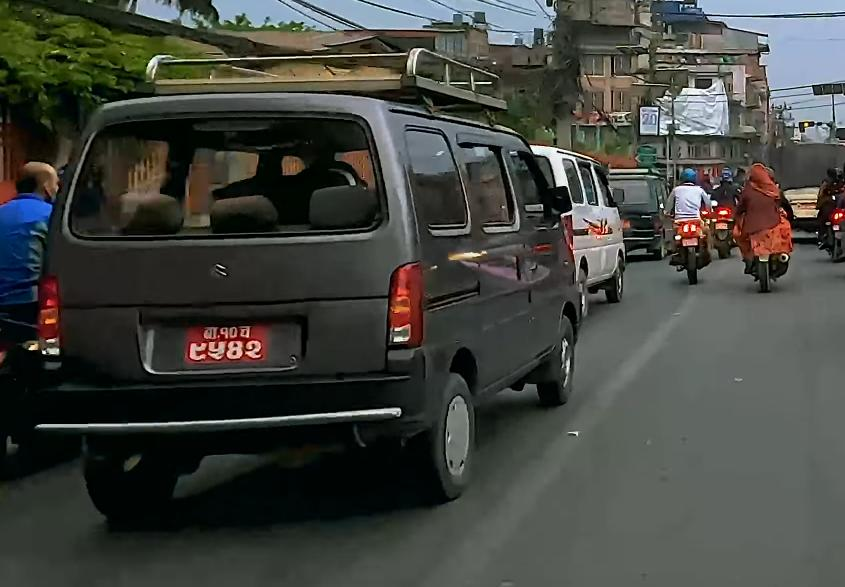bike: (670, 210, 712, 288)
van: (32, 35, 584, 510), (519, 138, 628, 313)
